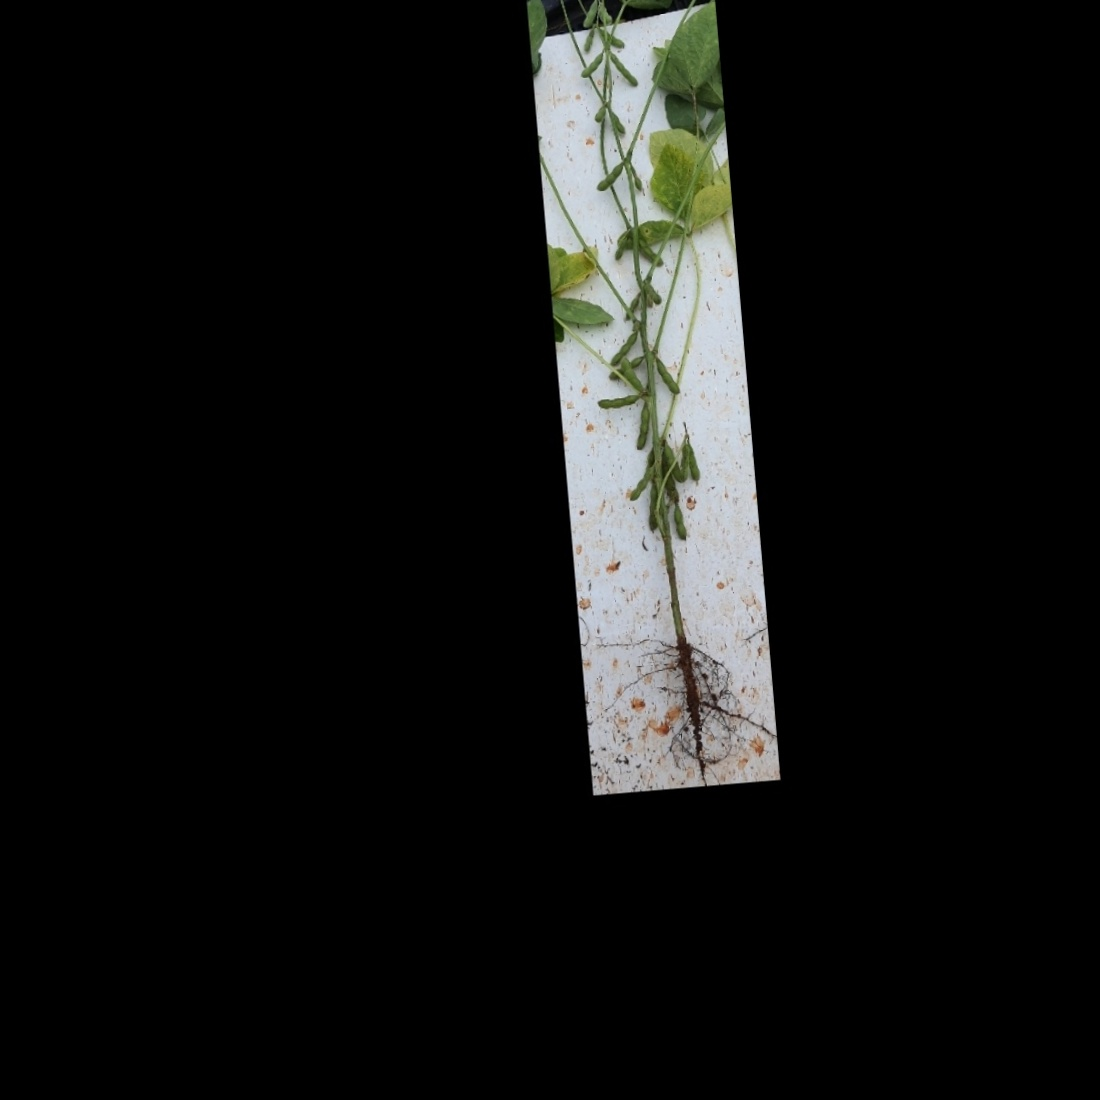pod: (653, 352, 682, 397), (630, 404, 655, 453), (605, 329, 640, 366), (608, 49, 640, 89), (625, 466, 658, 503), (620, 357, 649, 397), (592, 161, 629, 193), (659, 439, 684, 486), (594, 391, 644, 412), (635, 235, 665, 269), (644, 484, 661, 534), (684, 442, 704, 484), (577, 52, 606, 80), (656, 454, 676, 492), (671, 502, 689, 541), (621, 291, 642, 323), (598, 27, 627, 50), (678, 441, 692, 482), (579, 0, 598, 29), (612, 233, 631, 262), (628, 162, 644, 194), (609, 110, 627, 138), (580, 29, 597, 52), (592, 104, 607, 123)
soy: (533, 0, 759, 752)
